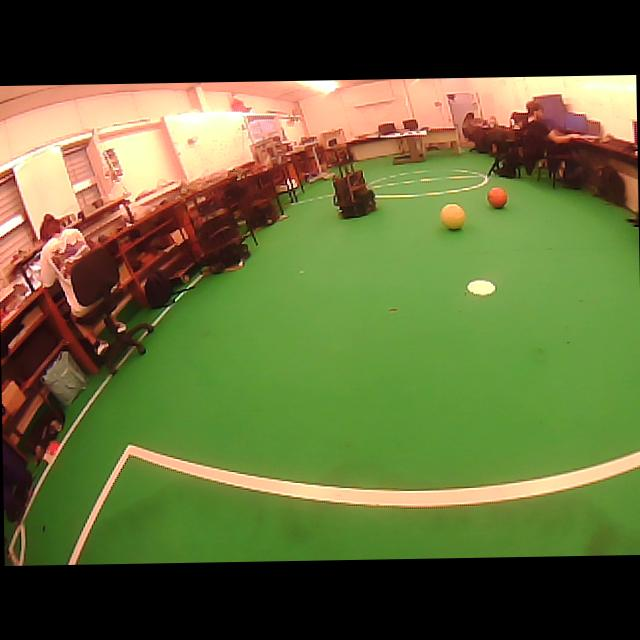ball: (441, 204, 466, 229), (487, 187, 507, 208)
robot: (194, 208, 249, 271), (333, 159, 376, 218)
